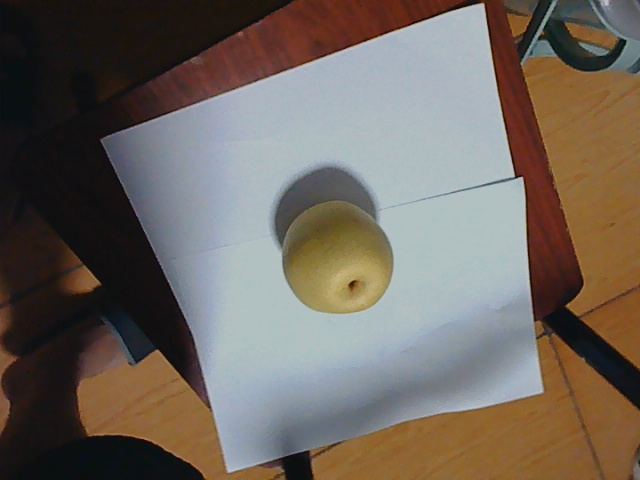pear: (278, 201, 392, 314)
